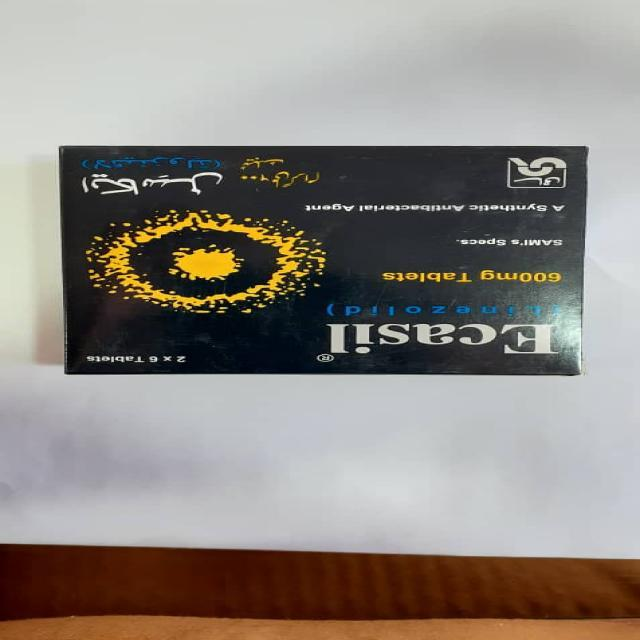drug-name: (315, 320, 566, 364)
